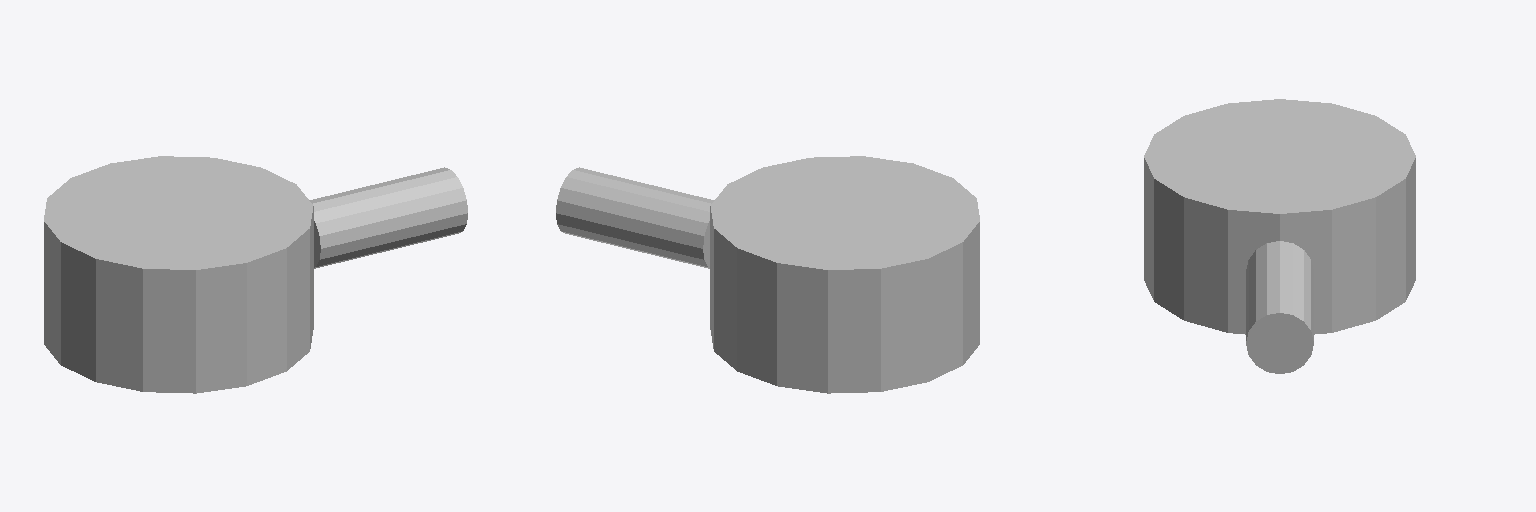
The model's file is SM_turret.obj.
3 views of the same model, side by side, from view 1: azimuth 30°, elevation 25°; view 2: azimuth 150°, elevation 25°; view 3: azimuth 270°, elevation 25° (orthographic).
Visible parts, largest first — view 1: pt_turret; view 2: pt_turret; view 3: pt_turret.
Boxes of the visible parts, x1,y1,x2,y2 form: pt_turret: [44, 156, 467, 393]; pt_turret: [556, 156, 979, 393]; pt_turret: [1144, 99, 1415, 373].
Bounding box in the file's own units: 2.12 × 0.64 × 1.28.